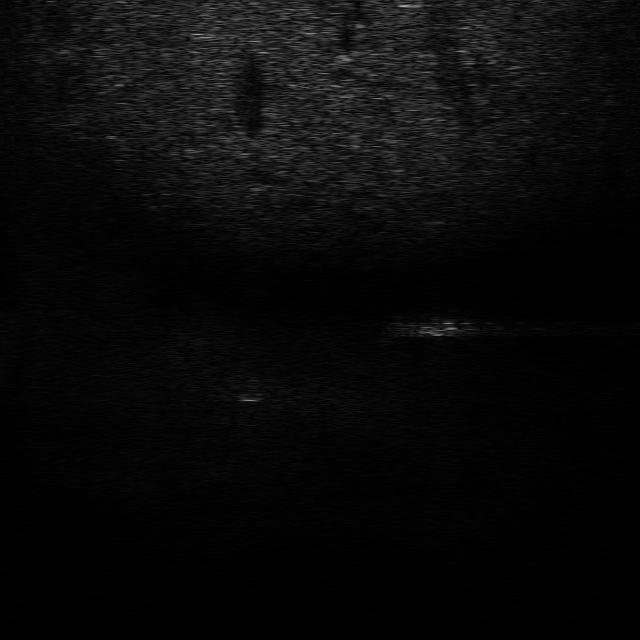ball: (225, 376, 273, 402)
human body: (385, 306, 490, 340)
